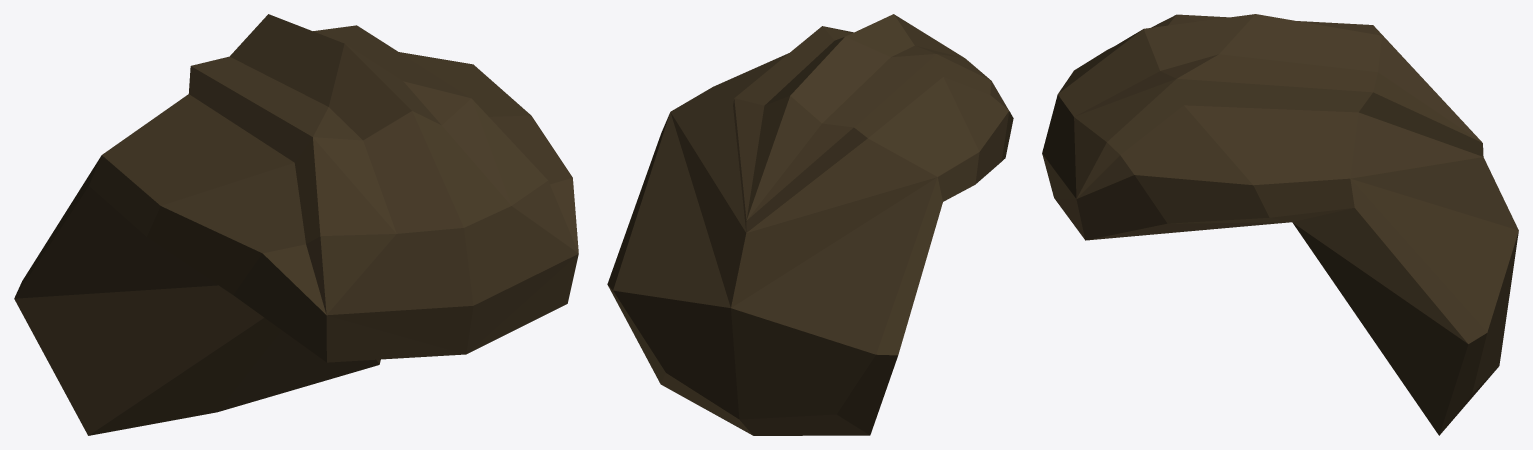
The model's file is Chr_Hair_08_Static.fbx.
The picture shows the model from 3 angles, left to right: view 1: azimuth 30°, elevation 25°; view 2: azimuth 150°, elevation 25°; view 3: azimuth 270°, elevation 25°; orthographic projection. The views are drawn at different scales.
Visible parts, largest first — view 1: Chr_Hair_08_Static; view 2: Chr_Hair_08_Static; view 3: Chr_Hair_08_Static.
Part boxes in pixels (x1,y1,x2,y2): Chr_Hair_08_Static: (14,14,578,435); Chr_Hair_08_Static: (607,14,1013,435); Chr_Hair_08_Static: (1042,14,1518,435).
Bounding box in the file's own units: 0.2065 × 0.2254 × 0.2544.
